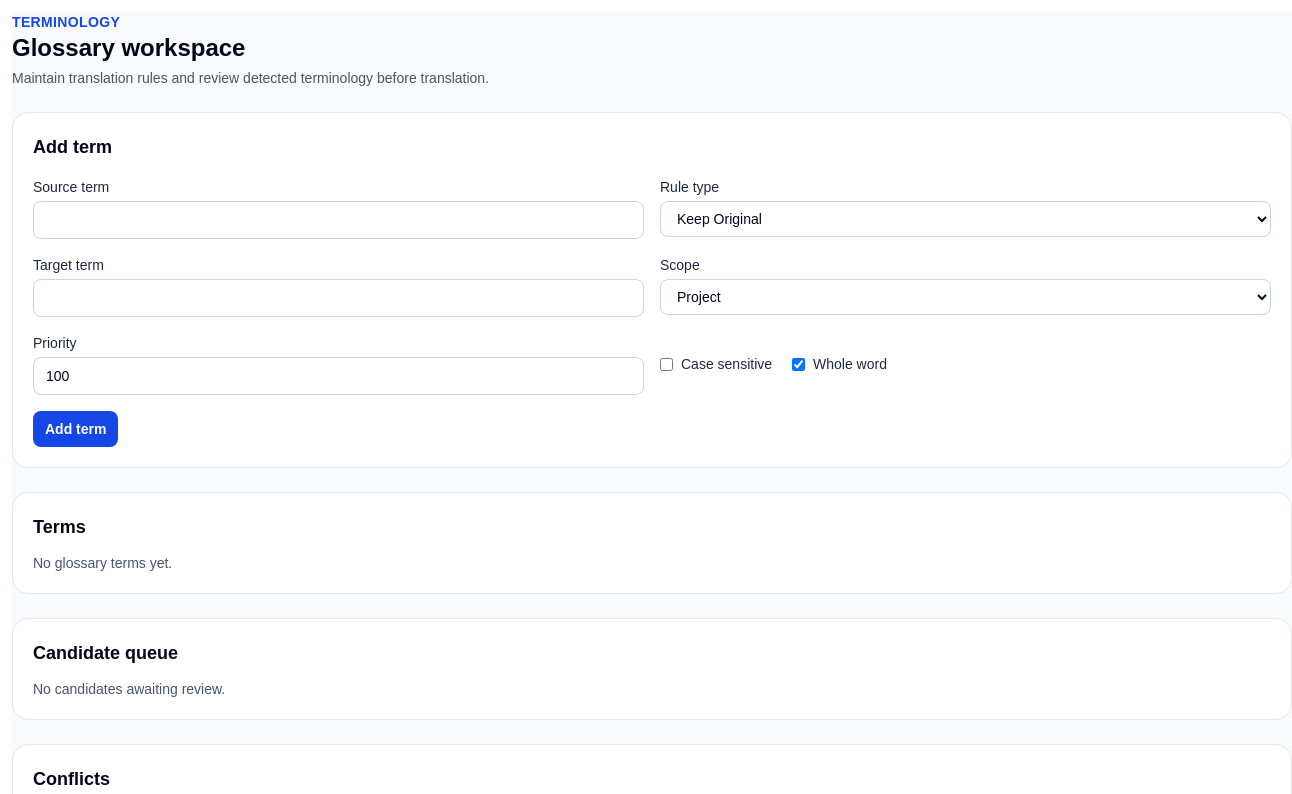
it: glossary workspace › validates required fields before creating a term
Check: the text "No glossary terms yet." is shown, box [33,555,172,571]
Click the button "Add term".
click(76, 429)  # box [33,411,118,447]
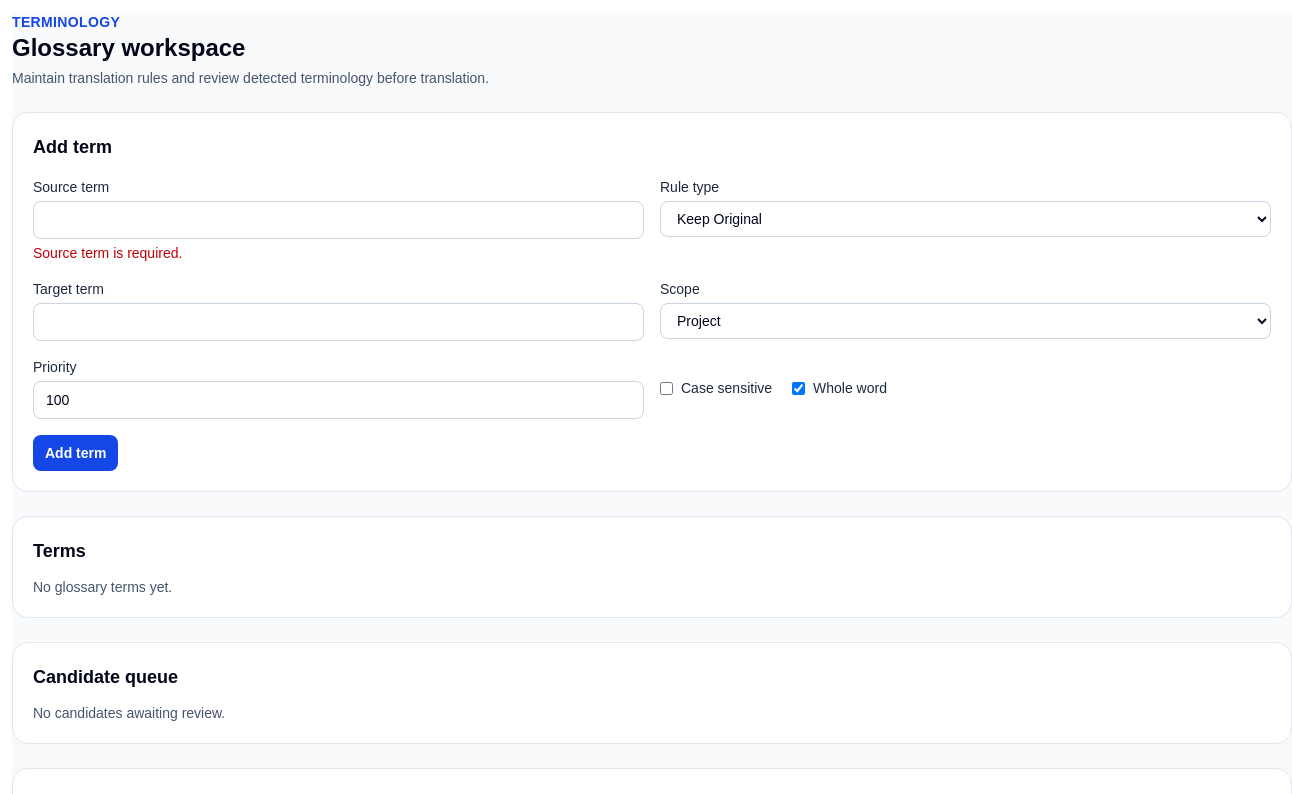
Check: the text "Source term is required." is shown, box [33,245,182,261]
Type "pipeline" into the field labelled "Source term Source term is required.".
click(338, 220); type("pipeline")  # box [33,201,644,239]
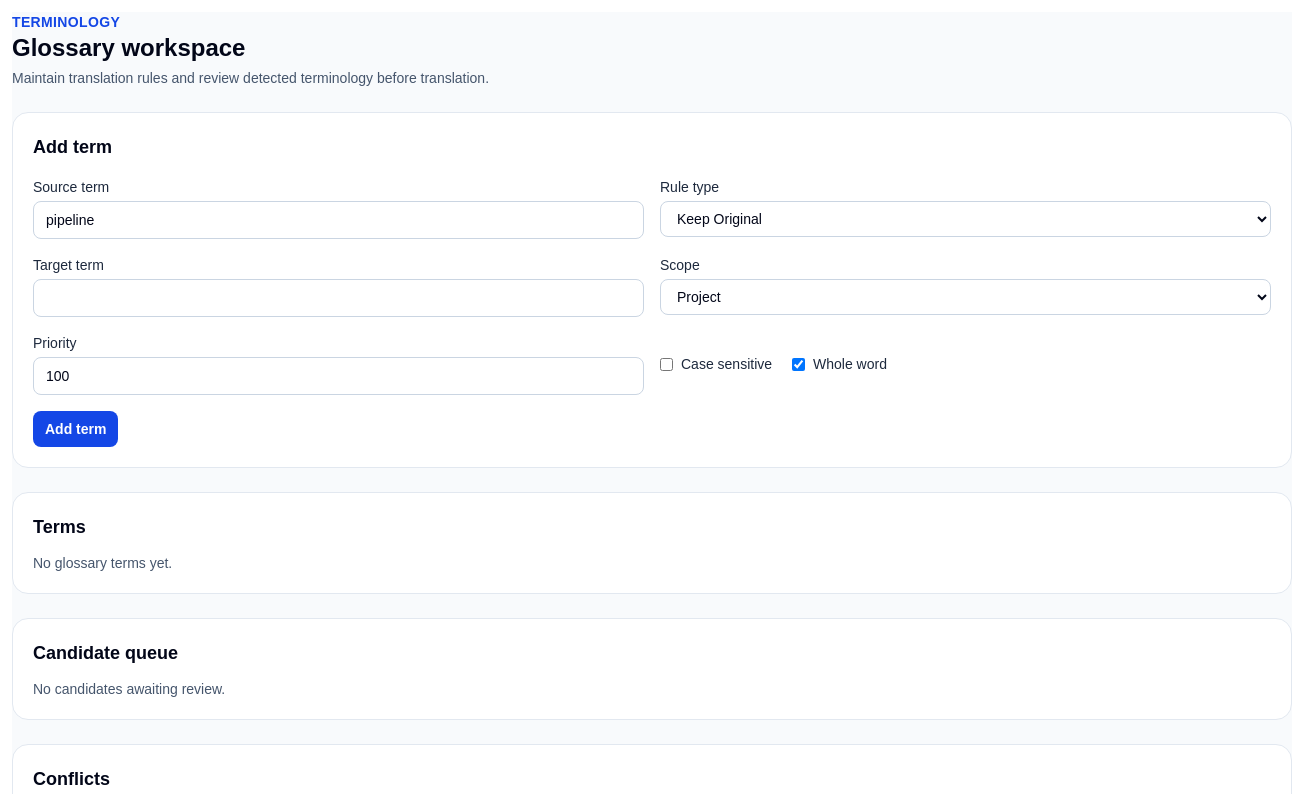
Select "Translate As" in the dropdown labelled "Rule type" at x=966, y=219, box [660,201,1271,237]
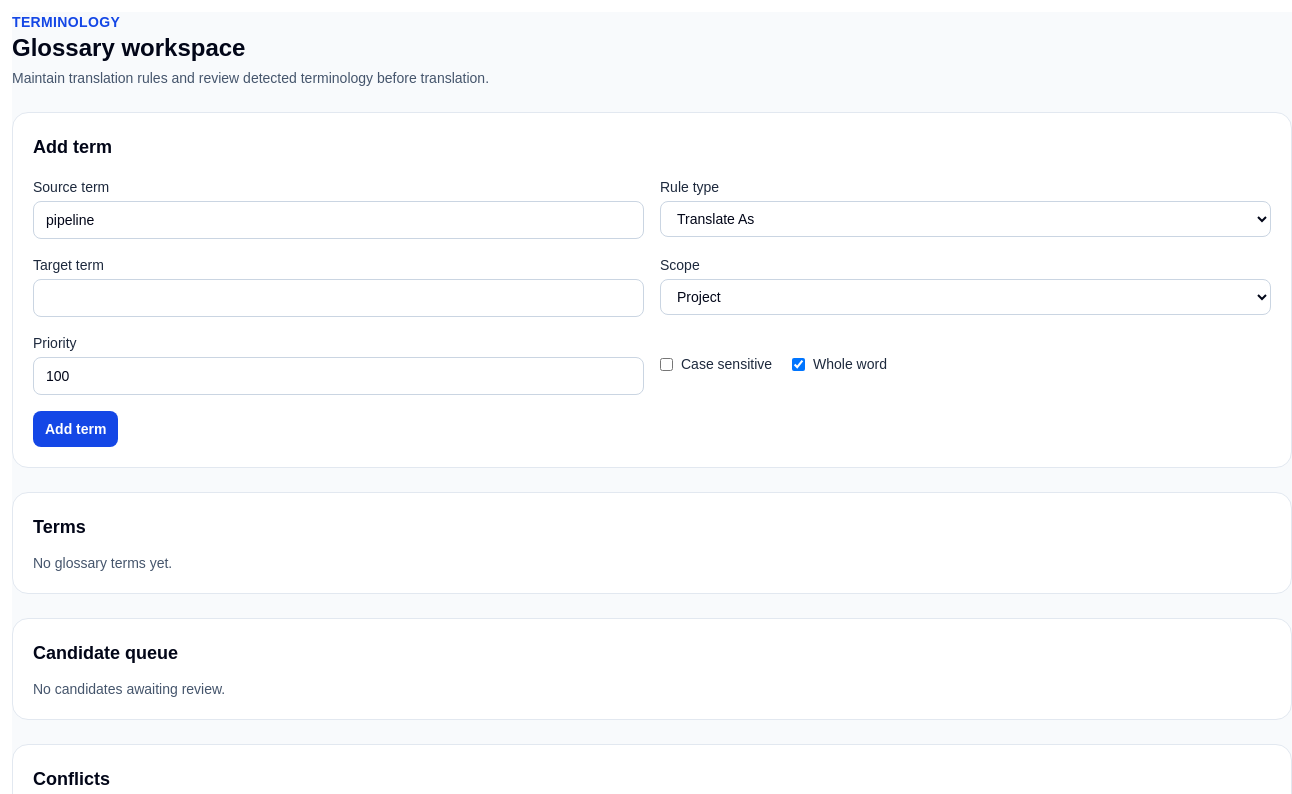
Click the button "Add term".
click(76, 429)  # box [33,411,118,447]
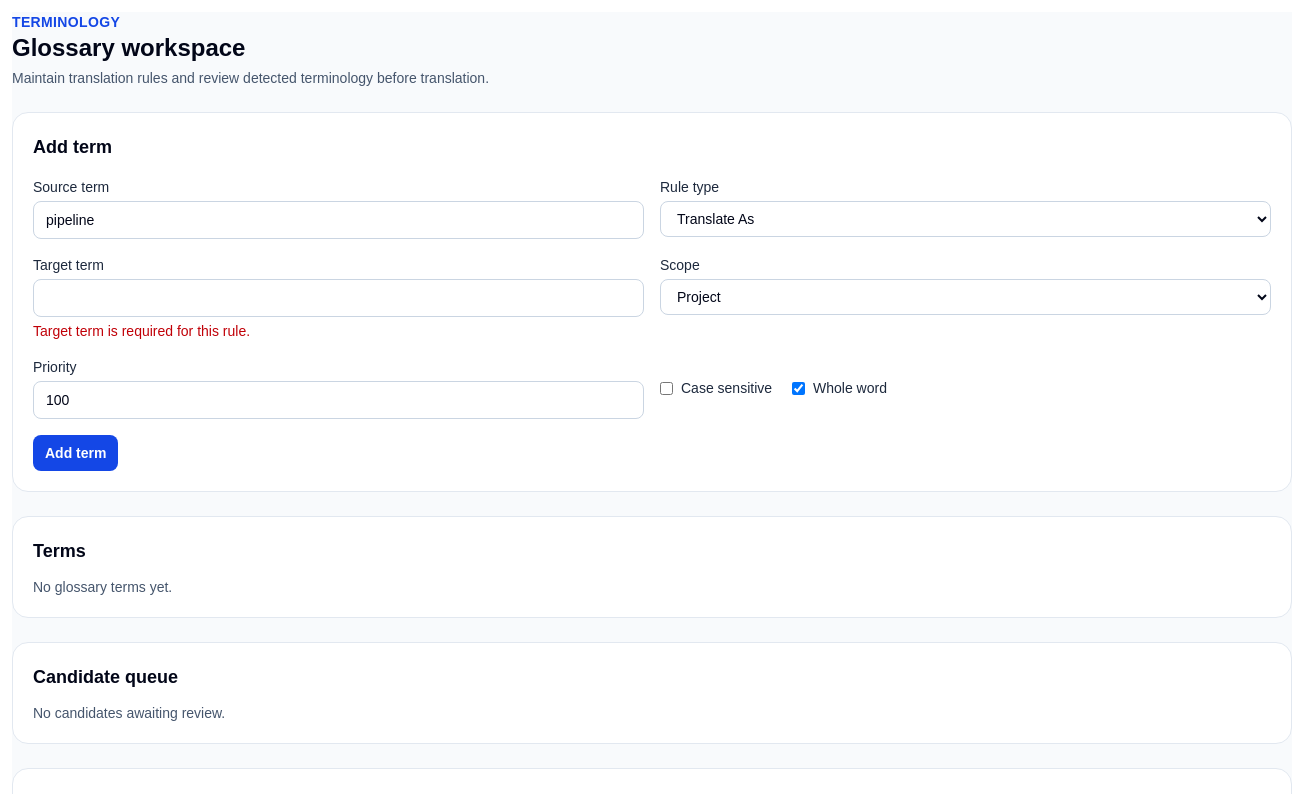
Check: the text "Target term is required for this rule." is shown, box [33,323,250,339]
